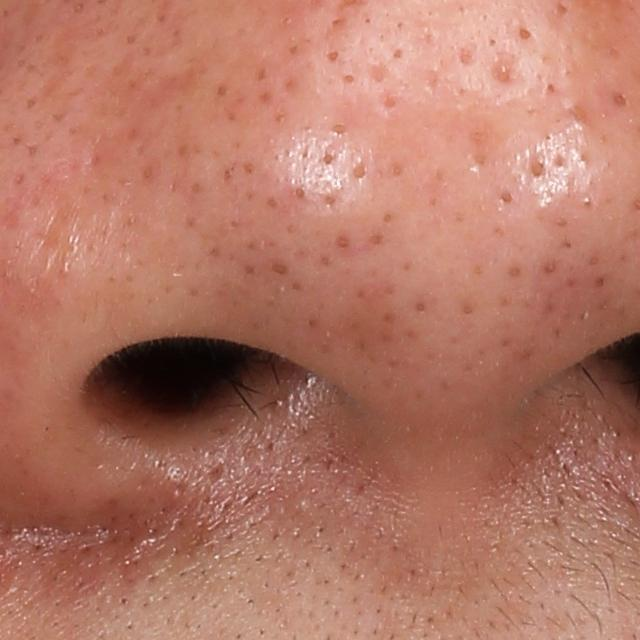comedo: (490, 59, 520, 91), (610, 89, 632, 111), (332, 232, 353, 253), (351, 158, 370, 181), (528, 158, 547, 180), (327, 123, 351, 140), (517, 22, 535, 44), (316, 150, 336, 168), (496, 188, 515, 206), (324, 49, 341, 66), (270, 261, 288, 276), (543, 79, 558, 96), (292, 184, 306, 201), (413, 300, 427, 315), (592, 275, 607, 289), (342, 72, 356, 85)
